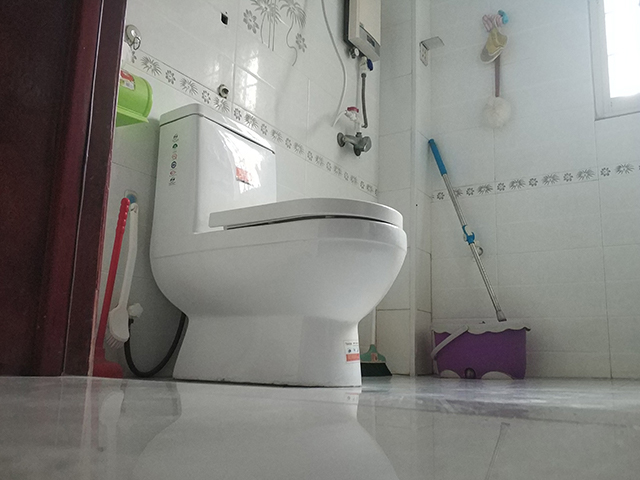closestool: (147, 102, 410, 389)
